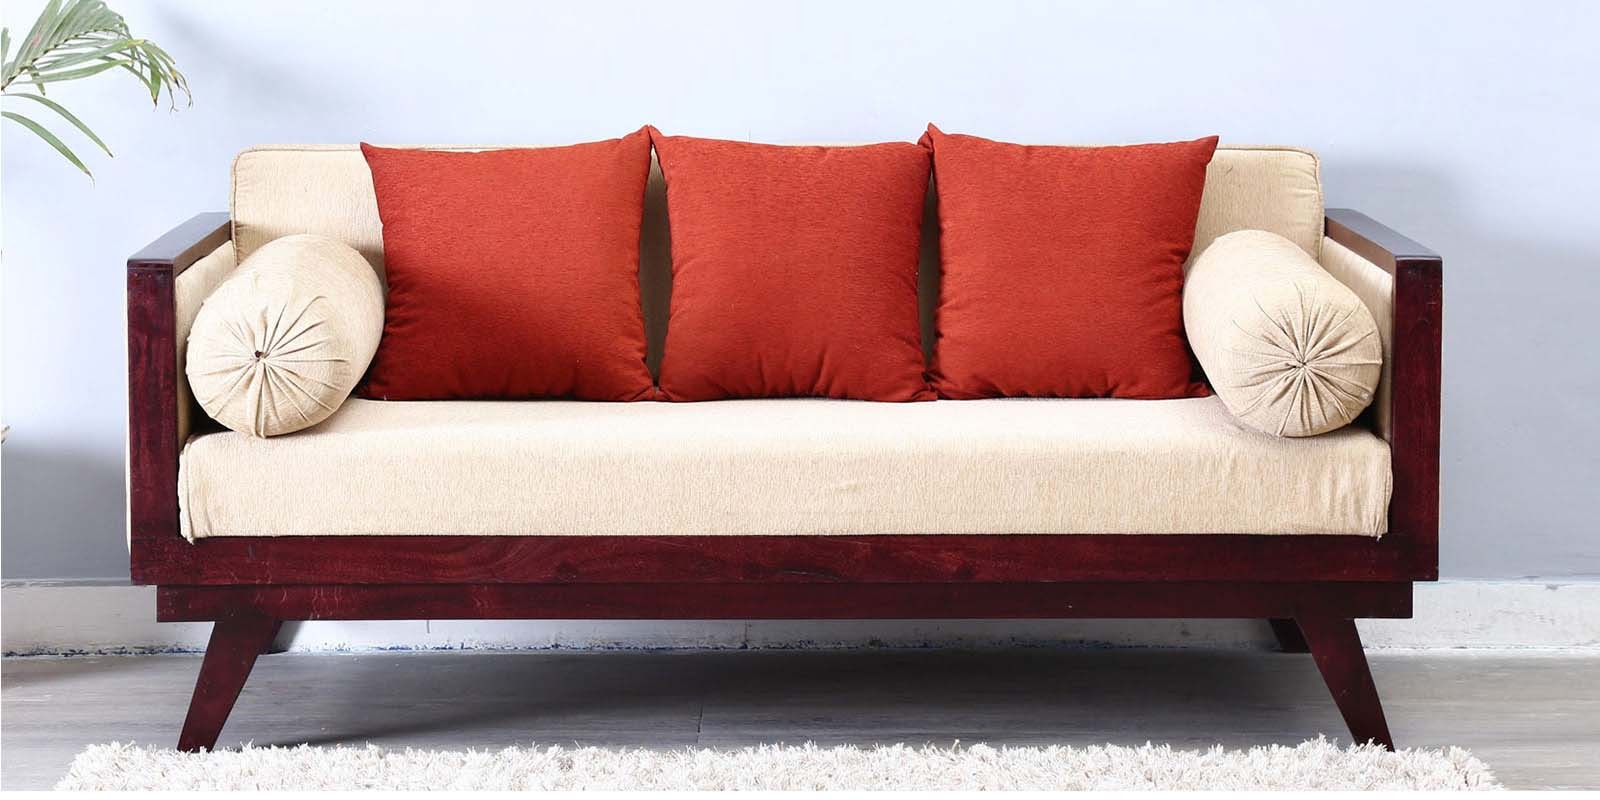Barnes Three Seater Sofa with Cushions in Passion Mahogany Finish by Woodsworth: (111, 107, 1457, 748)
